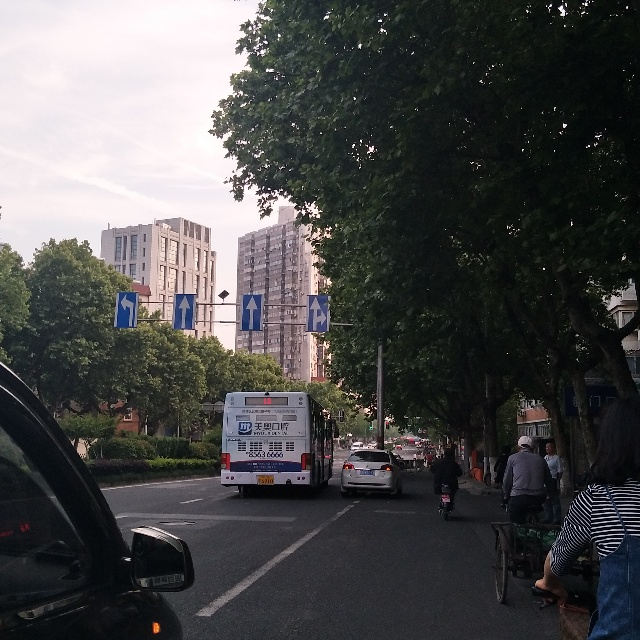left: (117, 293, 138, 327)
straight: (243, 293, 264, 332), (175, 296, 198, 329)
